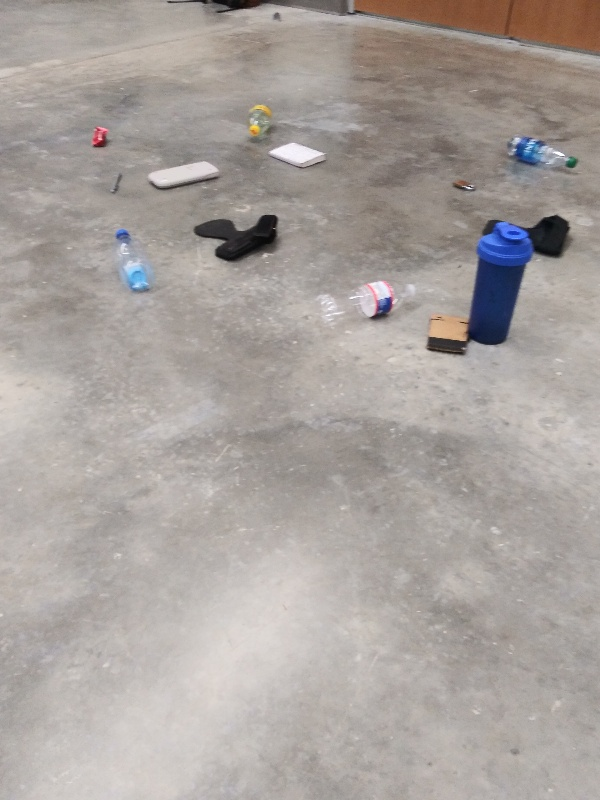bottle: (307, 278, 423, 333), (501, 133, 582, 175), (111, 222, 154, 295), (242, 100, 275, 138)
